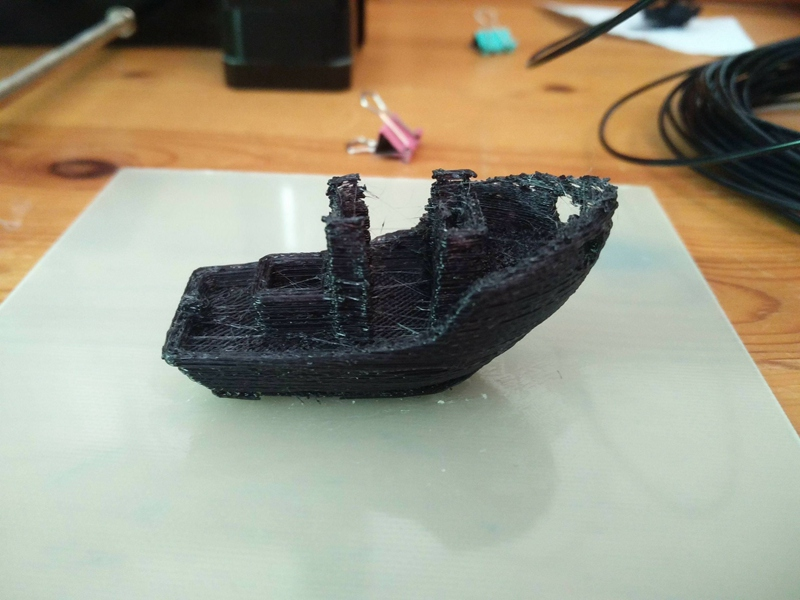Fail: (157, 153, 637, 420)
